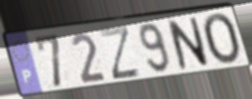2: (69, 30, 108, 86)
7: (32, 32, 65, 90)
9: (137, 22, 173, 75)
N: (165, 15, 211, 72)
O: (200, 12, 243, 67)
Z: (97, 23, 143, 82)
